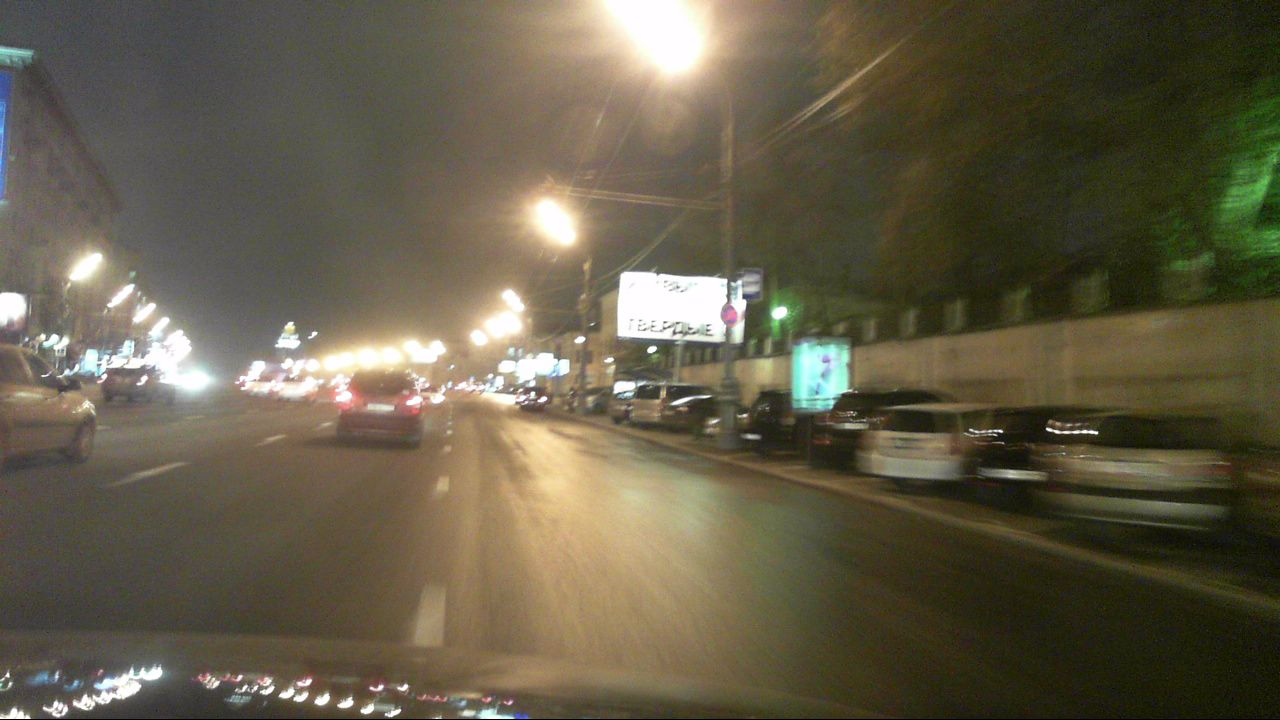No Parking: (720, 304, 737, 327)
